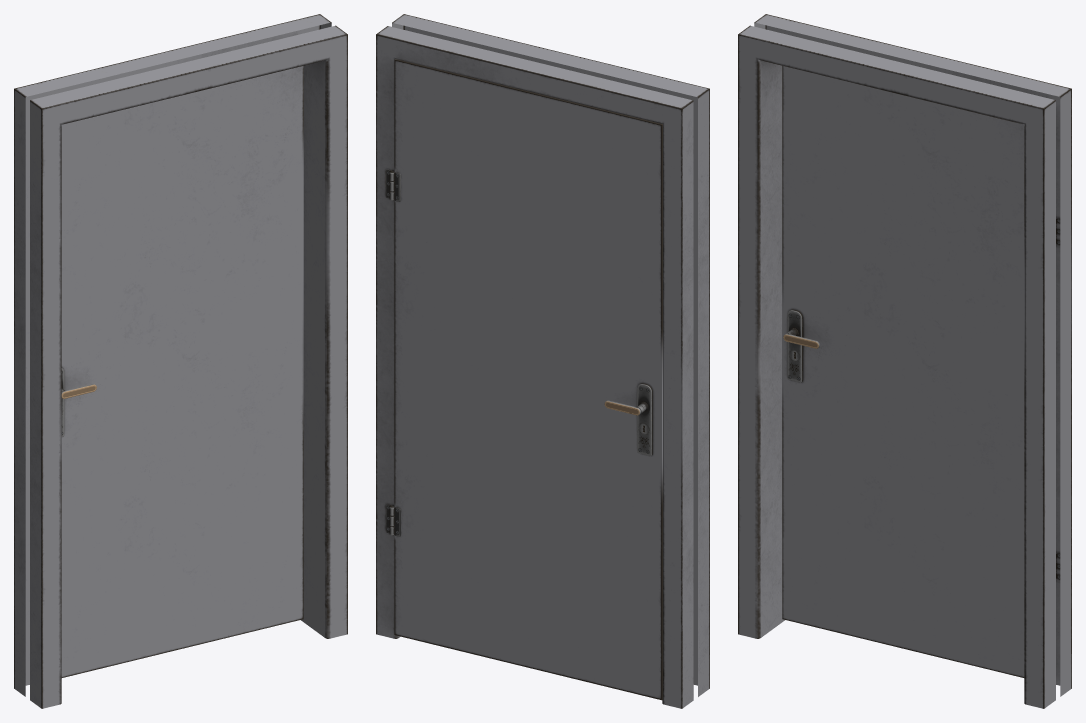
The picture shows the model from 3 angles, left to right: view 1: azimuth 30°, elevation 25°; view 2: azimuth 150°, elevation 25°; view 3: azimuth 330°, elevation 25°; orthographic projection.
Parts seen in each view (by area): view 1: door_Mat_0, f_Mat_0, handel_Mat_0; view 2: door_Mat_0, f_Mat_0, handel_Mat_0; view 3: door_Mat_0, f_Mat_0, handel_Mat_0.
Boxes of the visible parts, x1=… form: door_Mat_0: x1=61, y1=66, x2=303, y2=677; f_Mat_0: x1=14, y1=14, x2=347, y2=708; handel_Mat_0: x1=61, y1=368, x2=96, y2=436; door_Mat_0: x1=389, y1=59, x2=662, y2=700; f_Mat_0: x1=376, y1=14, x2=709, y2=708; handel_Mat_0: x1=604, y1=383, x2=652, y2=456; door_Mat_0: x1=782, y1=66, x2=1024, y2=677; f_Mat_0: x1=738, y1=14, x2=1071, y2=708; handel_Mat_0: x1=783, y1=309, x2=819, y2=382.
Size of the model in its own units: 129 by 241 by 27.37.
